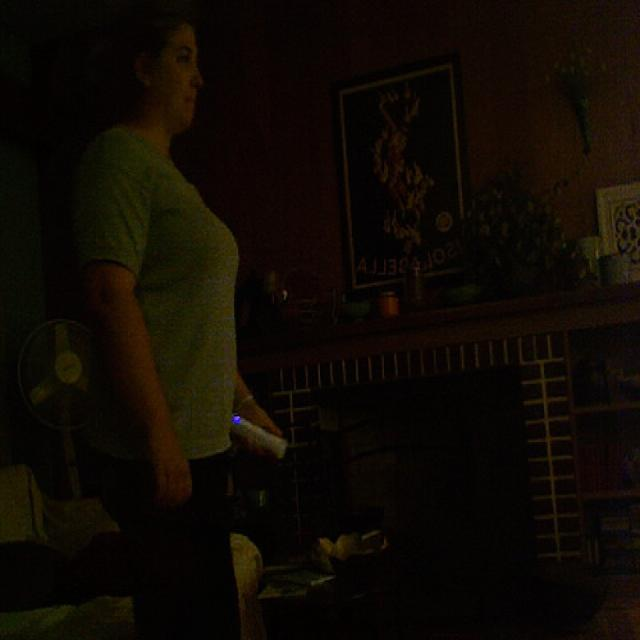Bottle: (402, 243, 434, 315)
People: (88, 0, 313, 640)
Table: (237, 504, 424, 640)
chair: (0, 392, 152, 640)
